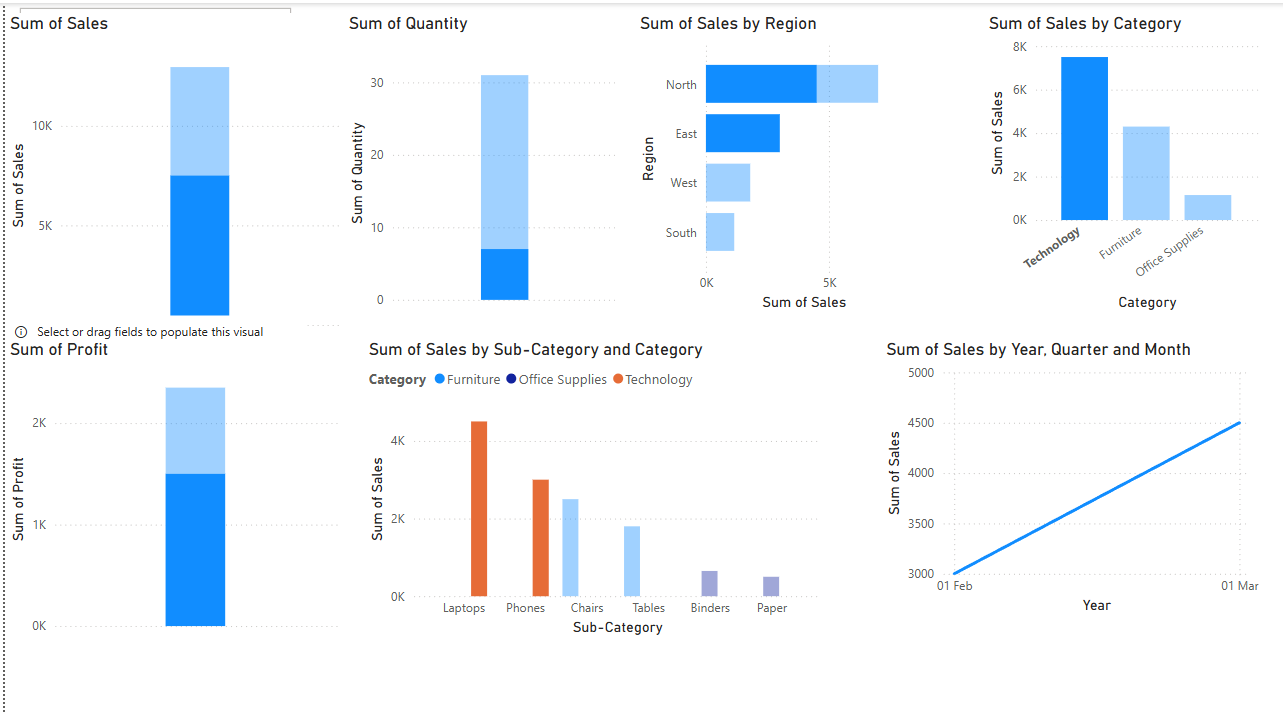

This screenshot's page, from the dashboard's own definition file:
{"tool":"powerbi","page":{"name":"Summary Dashboard","canvas":[1280,720],"ordinal":0},"visuals":[{"type":"cardVisual","fields":{"Data":["Sum(Sheet1.Sales)"]},"box":[10,0,280,280],"z":0},{"type":"clusteredColumnChart","fields":{"Y":["Sum(Sheet1.Sales)"]},"box":[0,10,339.6,324.7],"z":1000},{"type":"cardVisual","box":[0,311,301,301],"z":2000},{"type":"clusteredColumnChart","fields":{"Y":["Sum(Sheet1.Profit)"]},"box":[0,334.6,337.1,299.8],"z":3000},{"type":"clusteredColumnChart","fields":{"Y":["Sum(Sheet1.Quantity)"]},"box":[337.1,10,278.6,299.8],"z":4000},{"type":"clusteredBarChart","fields":{"Category":["Sheet1.Region"],"Y":["Sum(Sheet1.Sales)"]},"box":[627,10,278.6,301],"z":5000},{"type":"clusteredColumnChart","fields":{"Category":["Sheet1.Category"],"Y":["Sum(Sheet1.Sales)"]},"box":[974,10,278.6,301],"z":6000},{"type":"clusteredColumnChart","fields":{"Category":["Sheet1.Sub-Category"],"Y":["Sum(Sheet1.Sales)"],"Series":["Sheet1.Category"]},"box":[357,334.6,460.3,299.8],"z":6001},{"type":"lineChart","fields":{"Category":["Sheet1.Order Date.Variation.Date Hierarchy.Year","Sheet1.Order Date.Variation.Date Hierarchy.Quarter","Sheet1.Order Date.Variation.Date Hierarchy.Month","Sheet1.Order Date.Variation.Date Hierarchy.Day"],"Y":["Sum(Sheet1.Sales)"]},"box":[872,334.6,380.7,277.4],"z":6002}]}

Visuals, with their boxes in screenshot pixels (x1, y1, x2, y2), scaled from the page's 1280x720 canvas onto the 1283x713 screenshot:
cardVisual - Sum(Sheet1.Sales): {"x1": 10, "y1": 0, "x2": 291, "y2": 277}
clusteredColumnChart - Sum(Sheet1.Sales): {"x1": 0, "y1": 10, "x2": 340, "y2": 331}
cardVisual: {"x1": 0, "y1": 308, "x2": 302, "y2": 606}
clusteredColumnChart - Sum(Sheet1.Profit): {"x1": 0, "y1": 331, "x2": 338, "y2": 628}
clusteredColumnChart - Sum(Sheet1.Quantity): {"x1": 338, "y1": 10, "x2": 617, "y2": 307}
clusteredBarChart - Sheet1.Region x Sum(Sheet1.Sales): {"x1": 628, "y1": 10, "x2": 908, "y2": 308}
clusteredColumnChart - Sheet1.Category x Sum(Sheet1.Sales): {"x1": 976, "y1": 10, "x2": 1256, "y2": 308}
clusteredColumnChart - Sheet1.Sub-Category x Sum(Sheet1.Sales): {"x1": 358, "y1": 331, "x2": 819, "y2": 628}
lineChart - Sheet1.Order Date.Variation.Date Hierarchy.Year x Sheet1.Order Date.Variation.Date Hierarchy.Quarter: {"x1": 874, "y1": 331, "x2": 1256, "y2": 606}
